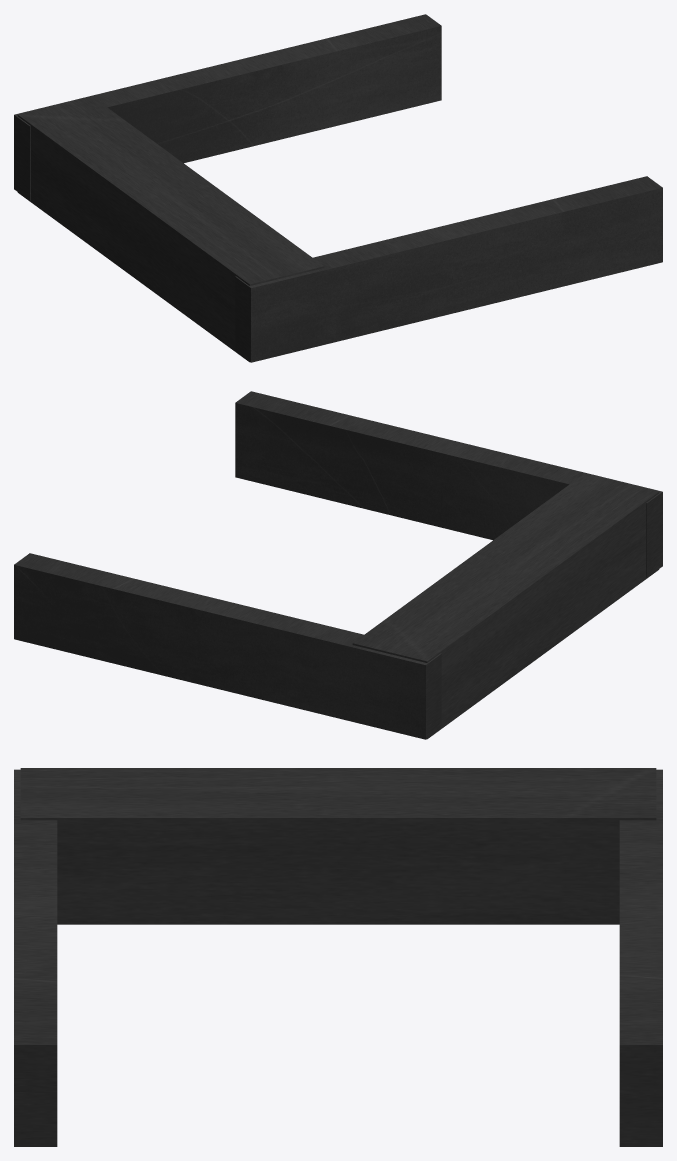
File: DOOR HANDLES.fbx
The picture shows the model from 3 angles, top to bottom: view 1: azimuth 30°, elevation 25°; view 2: azimuth 150°, elevation 25°; view 3: azimuth 270°, elevation 25°; orthographic projection. The views are drawn at different scales.
Visible parts, largest first — view 1: DOOR HANDLES.002; view 2: DOOR HANDLES.002; view 3: DOOR HANDLES.002.
Part boxes in pixels (<box>): DOOR HANDLES.002: <box>14,14,662,362</box>; DOOR HANDLES.002: <box>14,391,662,739</box>; DOOR HANDLES.002: <box>14,768,662,1146</box>.
Bounding box in the file's own units: 0.1522 × 0.1517 × 0.0276.
